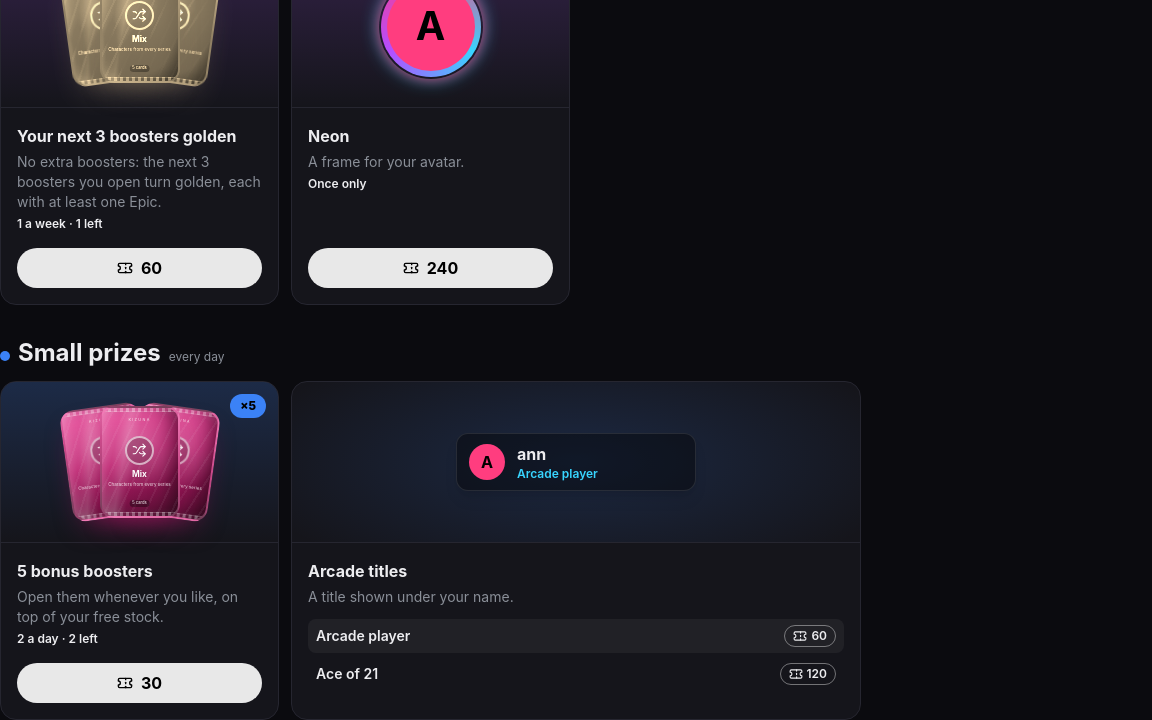
Scenario: PrizeCounter › previews a title when you point at it
The width and height of the screenshot is (1152, 720).
(page scrolled)
Hover over the button "Ace of 21 120" at (347, 674), box top-left (316, 663), bottom-right (836, 685)
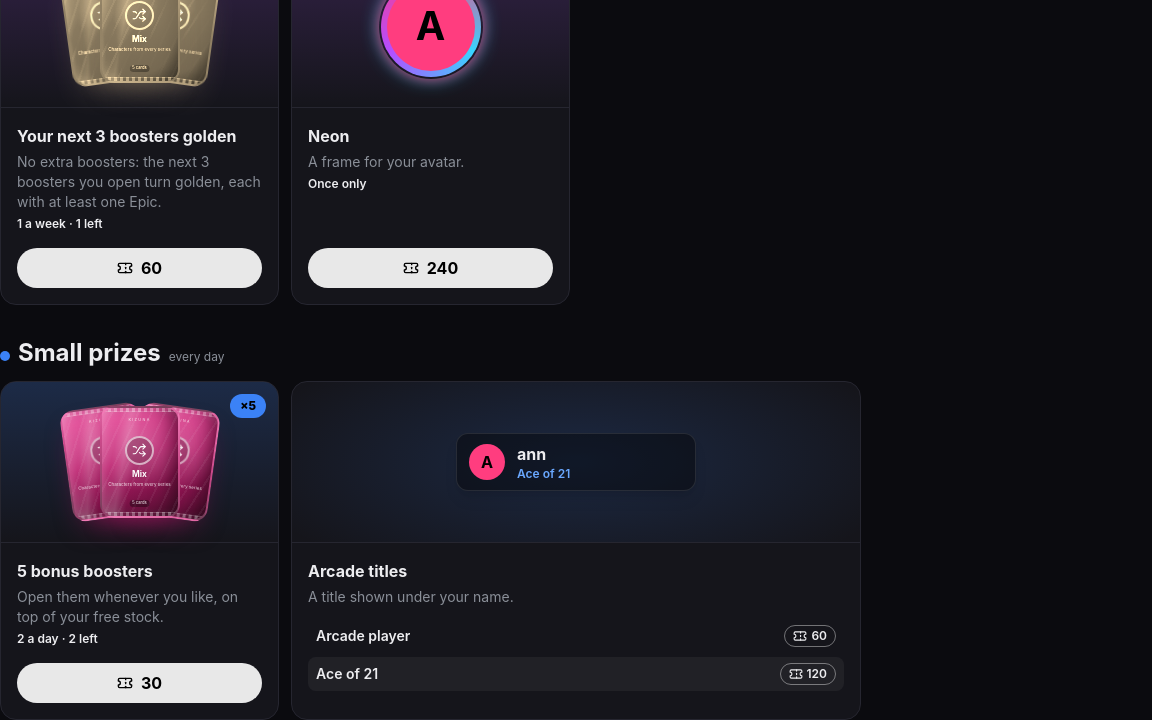
Expected: the 1st text "Ace of 21" is shown, top-left (517, 466), bottom-right (570, 482)
